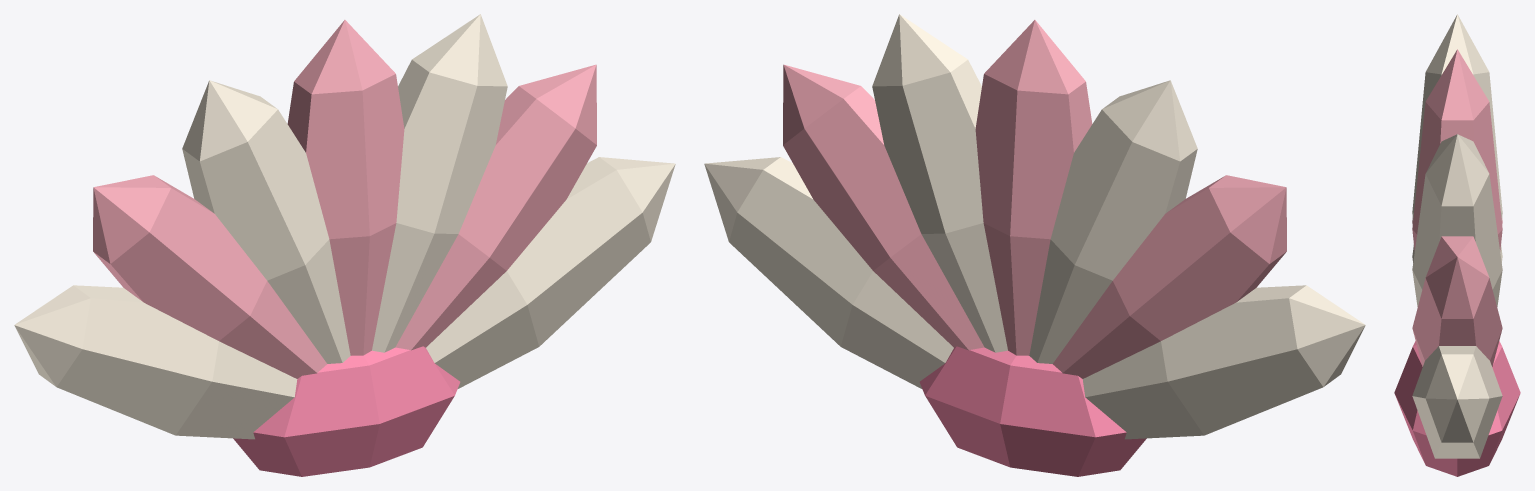
The model's file is shell_icon.glb.
The picture shows the model from 3 angles, left to right: view 1: azimuth 30°, elevation 25°; view 2: azimuth 150°, elevation 25°; view 3: azimuth 270°, elevation 25°; orthographic projection. The views are drawn at different scales.
Visible parts, largest first — view 1: shell_icon; view 2: shell_icon; view 3: shell_icon.
Part boxes in pixels (x1,y1,x2,y2): shell_icon: (14,14,675,476); shell_icon: (704,14,1365,476); shell_icon: (1394,14,1520,476).
Bounding box in the file's own units: 0.3837 × 0.25 × 0.07.
